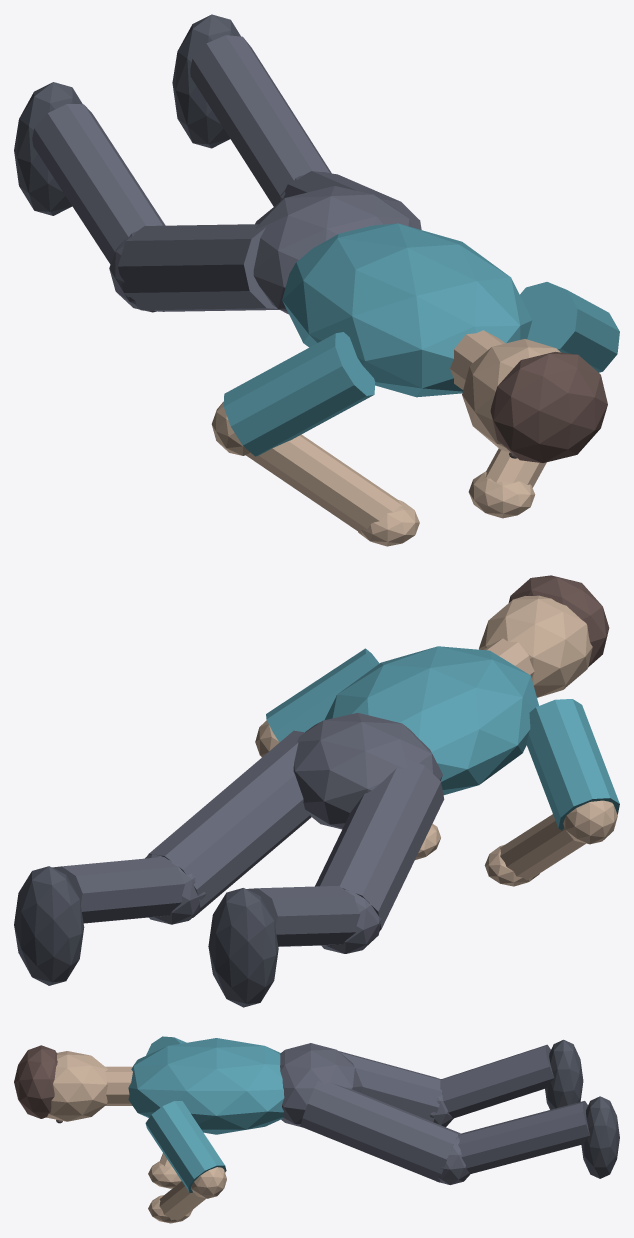
The picture shows the model from 3 angles, top to bottom: view 1: azimuth 30°, elevation 25°; view 2: azimuth 150°, elevation 25°; view 3: azimuth 270°, elevation 25°; orthographic projection. The views are drawn at different scales.
Parts seen in each view (by area): view 1: world; view 2: world; view 3: world.
Part boxes in pixels (x1,y1,x2,y2): world: (14, 14, 619, 546); world: (14, 575, 619, 1007); world: (14, 1036, 619, 1223).
Size of the model in its own units: 0.93 by 0.565 by 1.99.
